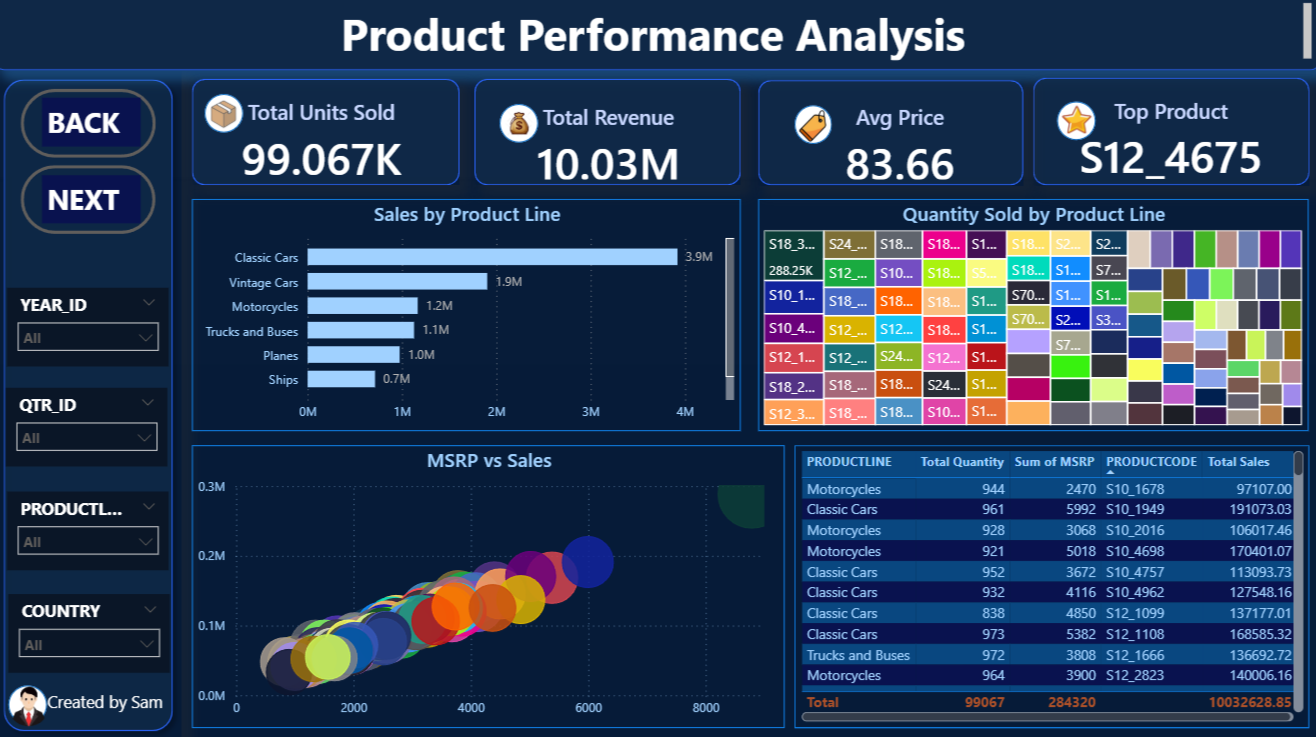

What the dashboard file says about the page in this screenshot:
{"tool":"powerbi","page":{"name":"Product Performance","canvas":[1280,720],"ordinal":2},"visuals":[{"type":"shape","box":[0,73.6,181,646.7],"z":0},{"type":"textbox","box":[0,0,1280,73.6],"z":1000},{"type":"shape","box":[190.6,82,258.2,102.5],"z":2000},{"type":"cardVisual","fields":{"Data":["sales_data_sample xlsx.Total Products Sold"]},"box":[202.7,83.2,226.8,101.3],"z":3000},{"type":"shape","box":[463.3,82,257,102.5],"z":4000},{"type":"shape","box":[1002.6,80.8,266.6,103.8],"z":5000},{"type":"shape","box":[737.1,83.2,255.8,101.3],"z":6000},{"type":"cardVisual","fields":{"Data":["sales_data_sample xlsx.Total Revenue"]},"box":[480.2,88.1,225.6,96.5],"z":7000},{"type":"cardVisual","fields":{"Data":["sales_data_sample xlsx.Average Price per Product"]},"box":[762.5,88.1,223.2,96.5],"z":8000},{"type":"cardVisual","fields":{"Data":["sales_data_sample xlsx.Best Selling Product"]},"box":[1002.6,82,266.6,102.5],"z":9000},{"type":"slicer","fields":{"Values":["sales_data_sample xlsx.YEAR_ID"]},"box":[12.5,283.8,156.2,76.2],"z":10000},{"type":"slicer","fields":{"Values":["sales_data_sample xlsx.QTR_ID"]},"box":[11.2,380,156.2,76.2],"z":11000},{"type":"slicer","fields":{"Values":["sales_data_sample xlsx.COUNTRY"]},"box":[13.8,578.8,156.2,76.2],"z":12000},{"type":"slicer","fields":{"Values":["sales_data_sample xlsx.PRODUCTLINE"]},"box":[12.5,480,156.2,76.2],"z":13000},{"type":"shape","box":[202.7,96.5,37.4,37.4],"z":14000},{"type":"shape","box":[487.4,106.2,37.4,37.4],"z":15000},{"type":"shape","box":[772.1,107.4,36.2,37.4],"z":16000},{"type":"image","box":[202.7,88.1,37.4,55.5],"z":17000},{"type":"shape","box":[1025.5,103.8,37.4,37.4],"z":18000},{"type":"image","box":[488.6,82,36.2,85.7],"z":19000},{"type":"image","box":[762.5,107.4,54.3,39.8],"z":20000},{"type":"image","box":[1005,85.7,79.6,72.4],"z":21000},{"type":"actionButton","box":[25,165,130,66.2],"z":22000},{"type":"textbox","box":[46.2,175,95,46.2],"z":23000},{"type":"actionButton","box":[25.3,91.7,130.3,66.4],"z":24000},{"type":"textbox","box":[45.8,100.1,95.3,47.1],"z":25000},{"type":"clusteredBarChart","title":"Sales by Product Line","fields":{"Category":["sales_data_sample xlsx.PRODUCTLINE"],"Y":["sales_data_sample xlsx.Total Sales"]},"box":[190.6,197.9,529.6,224.4],"z":26000},{"type":"treemap","title":"Quantity Sold by Product Line","fields":{"Values":["sales_data_sample xlsx.Total Sales"],"Details":["sales_data_sample xlsx.PRODUCTCODE"]},"box":[737.1,197.9,530.8,224.4],"z":27000},{"type":"scatterChart","title":"MSRP vs Sales","fields":{"X":["Sum(sales_data_sample xlsx.MSRP)"],"Y":["sales_data_sample xlsx.Total Sales"],"Size":["sales_data_sample xlsx.Total Quantity"],"Series":["sales_data_sample xlsx.PRODUCTCODE"]},"box":[190.6,435.5,571.9,272.7],"z":28000},{"type":"tableEx","fields":{"Values":["sales_data_sample xlsx.PRODUCTLINE","sales_data_sample xlsx.Total Quantity","Sum(sales_data_sample xlsx.MSRP)","sales_data_sample xlsx.PRODUCTCODE","sales_data_sample xlsx.Total Sales"]},"box":[772.1,435.5,497.1,272.7],"z":29000},{"type":"shape","box":[13.8,667.5,37.5,37.5],"z":30000},{"type":"textbox","box":[46.2,667.5,133.8,40],"z":31000},{"type":"image","box":[7.5,660,51.2,53.8],"z":32000}]}

Visuals, with their boxes in screenshot pixels (x1, y1, x2, y2), scaled from the page's 1280x720 canvas onto the 1316x737 screenshot:
shape: BBox(0, 75, 186, 736)
textbox: BBox(0, 0, 1315, 75)
shape: BBox(196, 84, 461, 189)
cardVisual - sales_data_sample xlsx.Total Products Sold: BBox(208, 85, 442, 189)
shape: BBox(476, 84, 741, 189)
shape: BBox(1031, 83, 1305, 189)
shape: BBox(758, 85, 1021, 189)
cardVisual - sales_data_sample xlsx.Total Revenue: BBox(494, 90, 726, 189)
cardVisual - sales_data_sample xlsx.Average Price per Product: BBox(784, 90, 1013, 189)
cardVisual - sales_data_sample xlsx.Best Selling Product: BBox(1031, 84, 1305, 189)
slicer - sales_data_sample xlsx.YEAR_ID: BBox(13, 291, 173, 368)
slicer - sales_data_sample xlsx.QTR_ID: BBox(12, 389, 172, 467)
slicer - sales_data_sample xlsx.COUNTRY: BBox(14, 592, 175, 670)
slicer - sales_data_sample xlsx.PRODUCTLINE: BBox(13, 491, 173, 569)
shape: BBox(208, 99, 247, 137)
shape: BBox(501, 109, 540, 147)
shape: BBox(794, 110, 831, 148)
image: BBox(208, 90, 247, 147)
shape: BBox(1054, 106, 1093, 145)
image: BBox(502, 84, 540, 172)
image: BBox(784, 110, 840, 151)
image: BBox(1033, 88, 1115, 162)
actionButton: BBox(26, 169, 159, 237)
textbox: BBox(47, 179, 145, 226)
actionButton: BBox(26, 94, 160, 162)
textbox: BBox(47, 102, 145, 151)
"Sales by Product Line" clusteredBarChart: BBox(196, 203, 740, 432)
"Quantity Sold by Product Line" treemap: BBox(758, 203, 1304, 432)
"MSRP vs Sales" scatterChart: BBox(196, 446, 784, 725)
tableEx - sales_data_sample xlsx.PRODUCTLINE x sales_data_sample xlsx.Total Quantity: BBox(794, 446, 1305, 725)
shape: BBox(14, 683, 53, 722)
textbox: BBox(47, 683, 185, 724)
image: BBox(8, 676, 60, 731)
